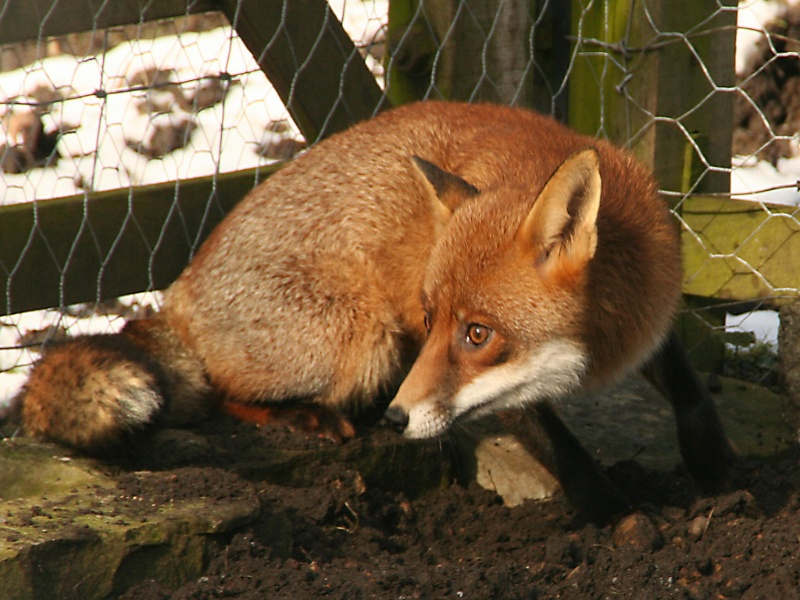fox: (12, 99, 746, 533)
